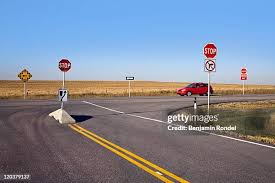stop sign: (204, 44, 218, 58), (58, 59, 71, 72)
